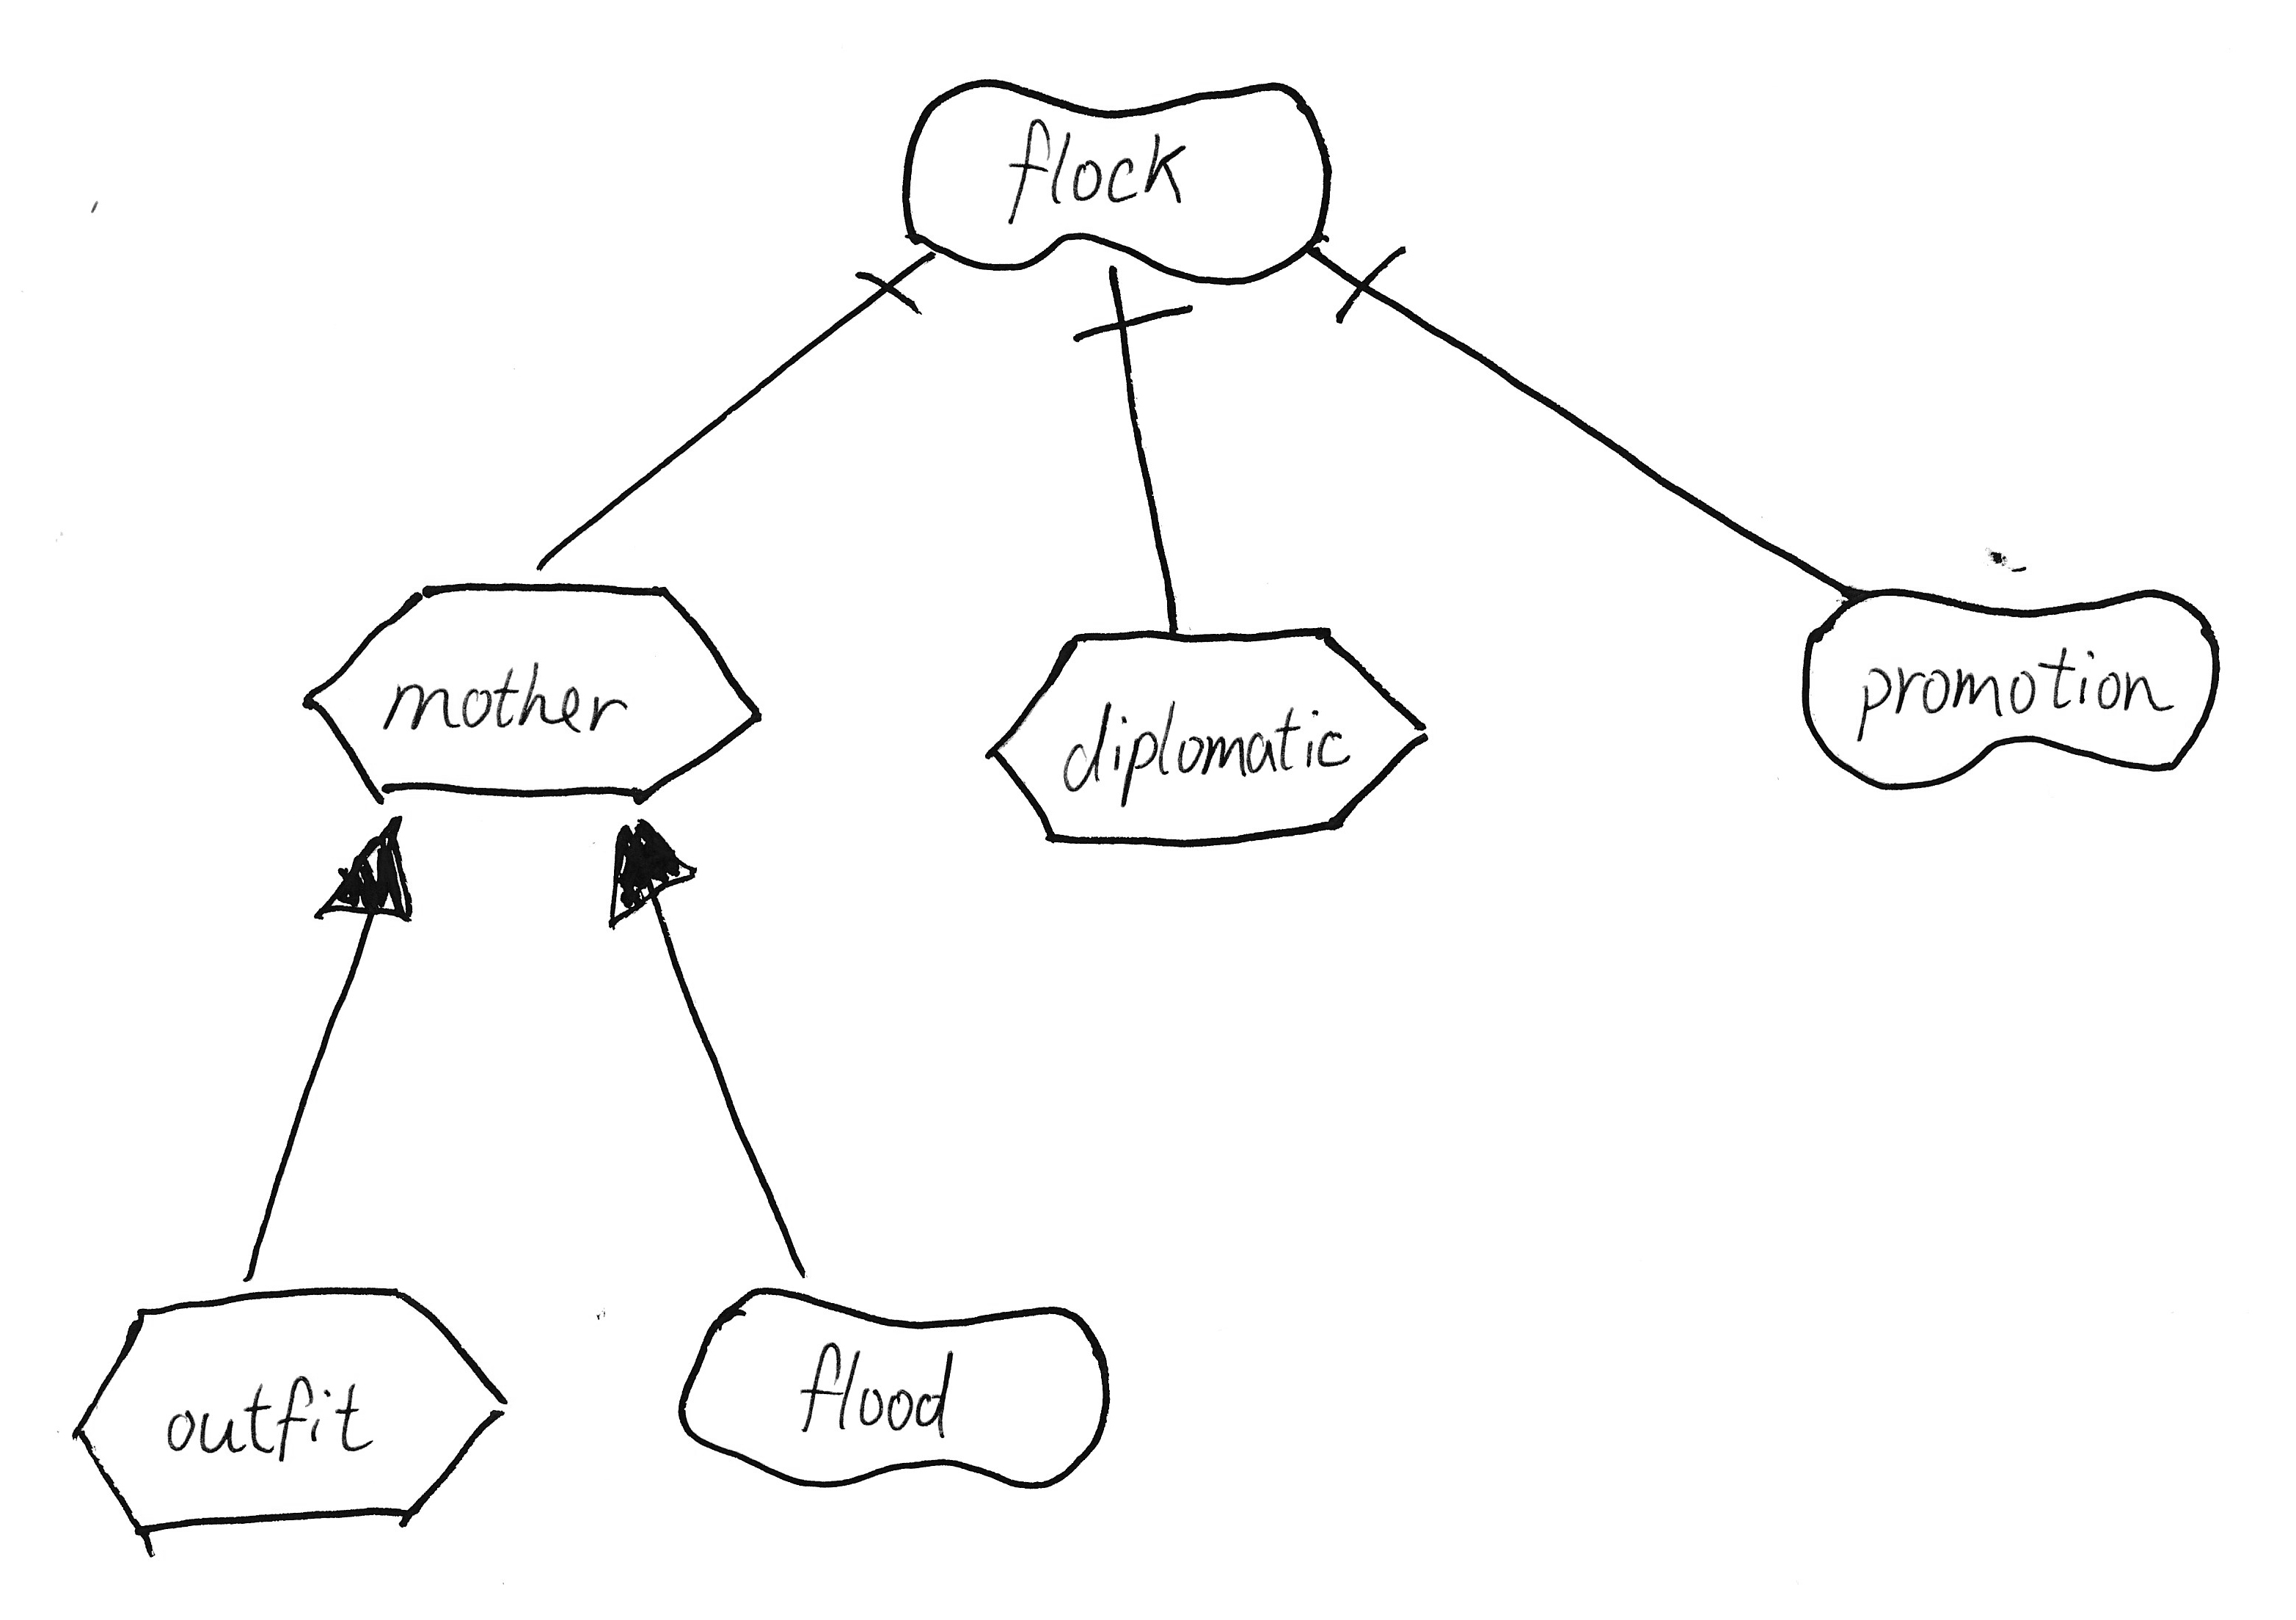and: (1059, 270, 1206, 375), (1316, 231, 1435, 345), (841, 251, 943, 344)
or: (300, 803, 442, 936), (589, 805, 720, 943)
quality: (663, 1268, 1123, 1506), (885, 56, 1341, 293), (1791, 570, 2235, 803)
task: (47, 1264, 524, 1566), (279, 561, 776, 819), (973, 614, 1451, 873)
